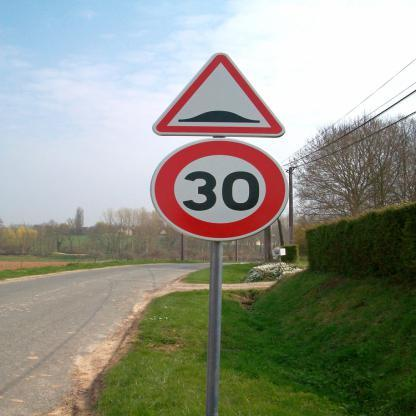Speed Limit 30: (154, 138, 288, 240)
